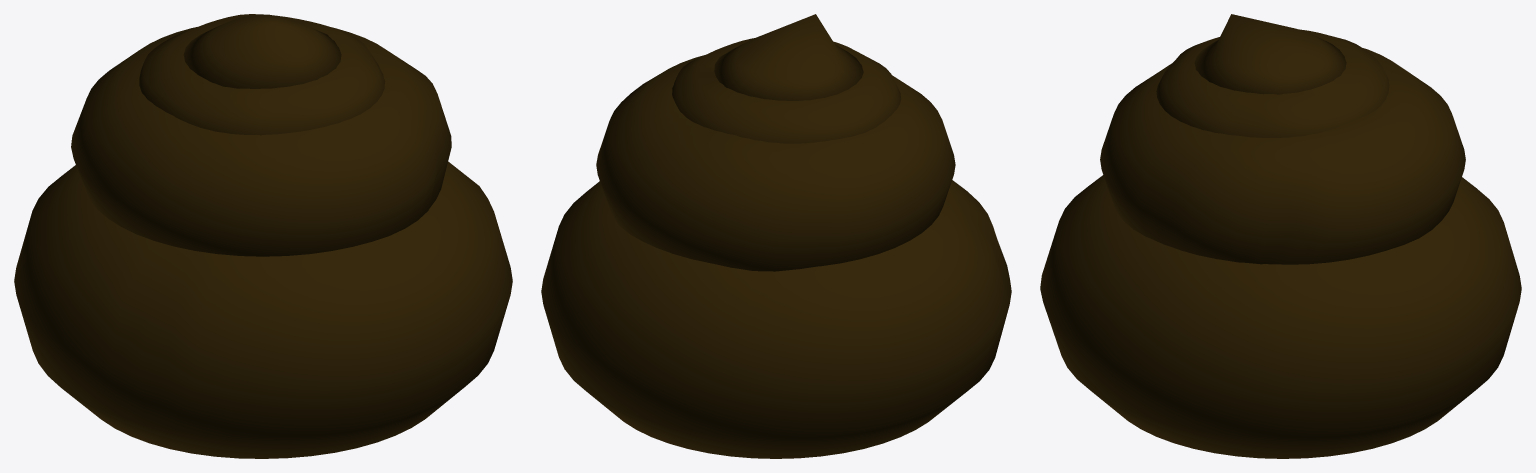
File: Poop.fbx
3 renders of one model, left to right at view 1: azimuth 30°, elevation 25°; view 2: azimuth 150°, elevation 25°; view 3: azimuth 270°, elevation 25°, orthographic. The views are drawn at different scales.
Parts seen in each view (by area): view 1: Kegel; view 2: Kegel; view 3: Kegel.
Boxes of the visible parts, box(x1,y1,x2,y2) form: Kegel: box(14, 14, 512, 458); Kegel: box(541, 14, 1011, 458); Kegel: box(1040, 14, 1521, 458).
Size of the model in its own units: 414 by 361 by 417.
